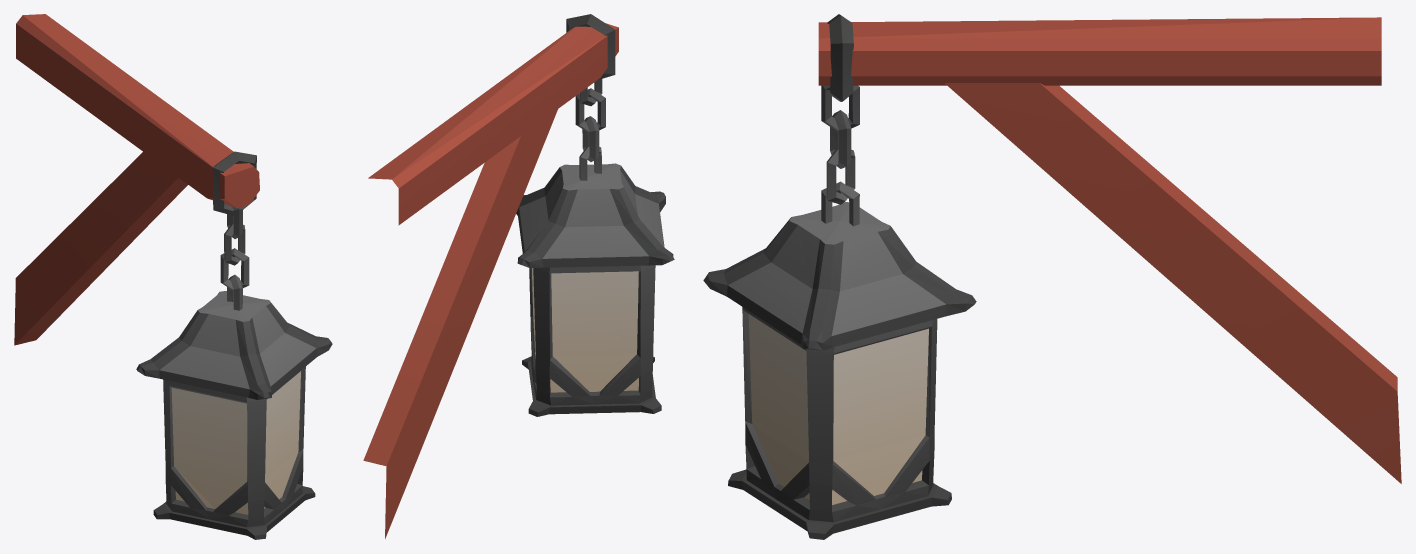
File: lantern_wall.glb
3 renders of one model, left to right at view 1: azimuth 30°, elevation 25°; view 2: azimuth 150°, elevation 25°; view 3: azimuth 270°, elevation 25°, orthographic. The views are drawn at different scales.
Visible parts, largest first — view 1: Lantern_Wall_mesh1; view 2: Lantern_Wall_mesh1; view 3: Lantern_Wall_mesh1.
Part boxes in pixels (x1,y1,x2,y2): Lantern_Wall_mesh1: (14,14,332,539); Lantern_Wall_mesh1: (363,14,674,538); Lantern_Wall_mesh1: (703,14,1401,539).
Bounding box in the file's own units: 0.567 × 1.12 × 1.45.
Materials: 1 (1 with a texture image).
